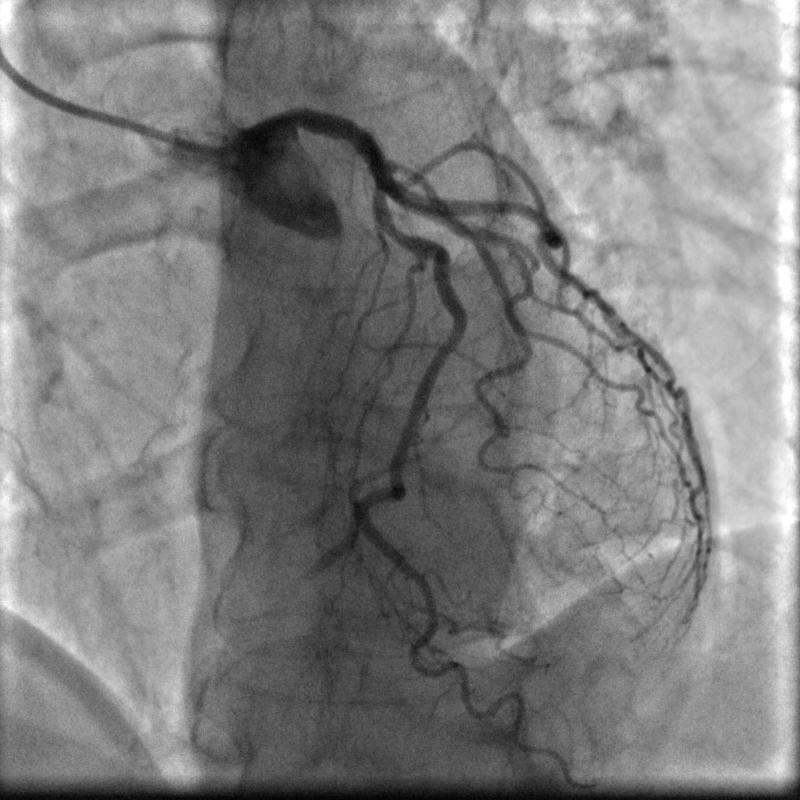Stenosis: (384, 220, 410, 241)
